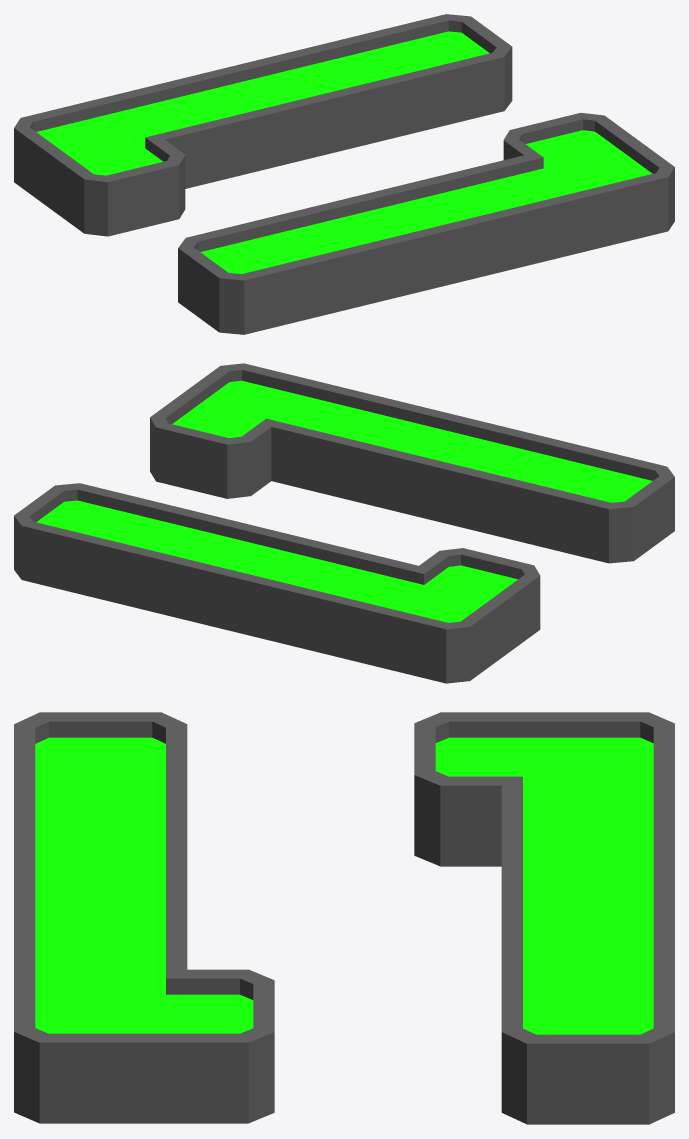
Rendered from Japanese_3D_02_い.FBX.
3 views of the same model, one above another, from view 1: azimuth 30°, elevation 25°; view 2: azimuth 150°, elevation 25°; view 3: azimuth 270°, elevation 25° (orthographic). The views are drawn at different scales.
Parts seen in each view (by area): view 1: Japanese_3D_02_い; view 2: Japanese_3D_02_い; view 3: Japanese_3D_02_い.
Boxes of the visible parts, box(x1,y1,x2,y2) form: Japanese_3D_02_い: box(14, 14, 674, 334); Japanese_3D_02_い: box(14, 363, 674, 683); Japanese_3D_02_い: box(14, 712, 674, 1124).
Size of the model in its own units: 66.01 by 7.5 by 55.66.
